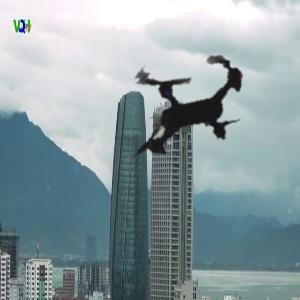drone: (82, 1, 293, 212)
